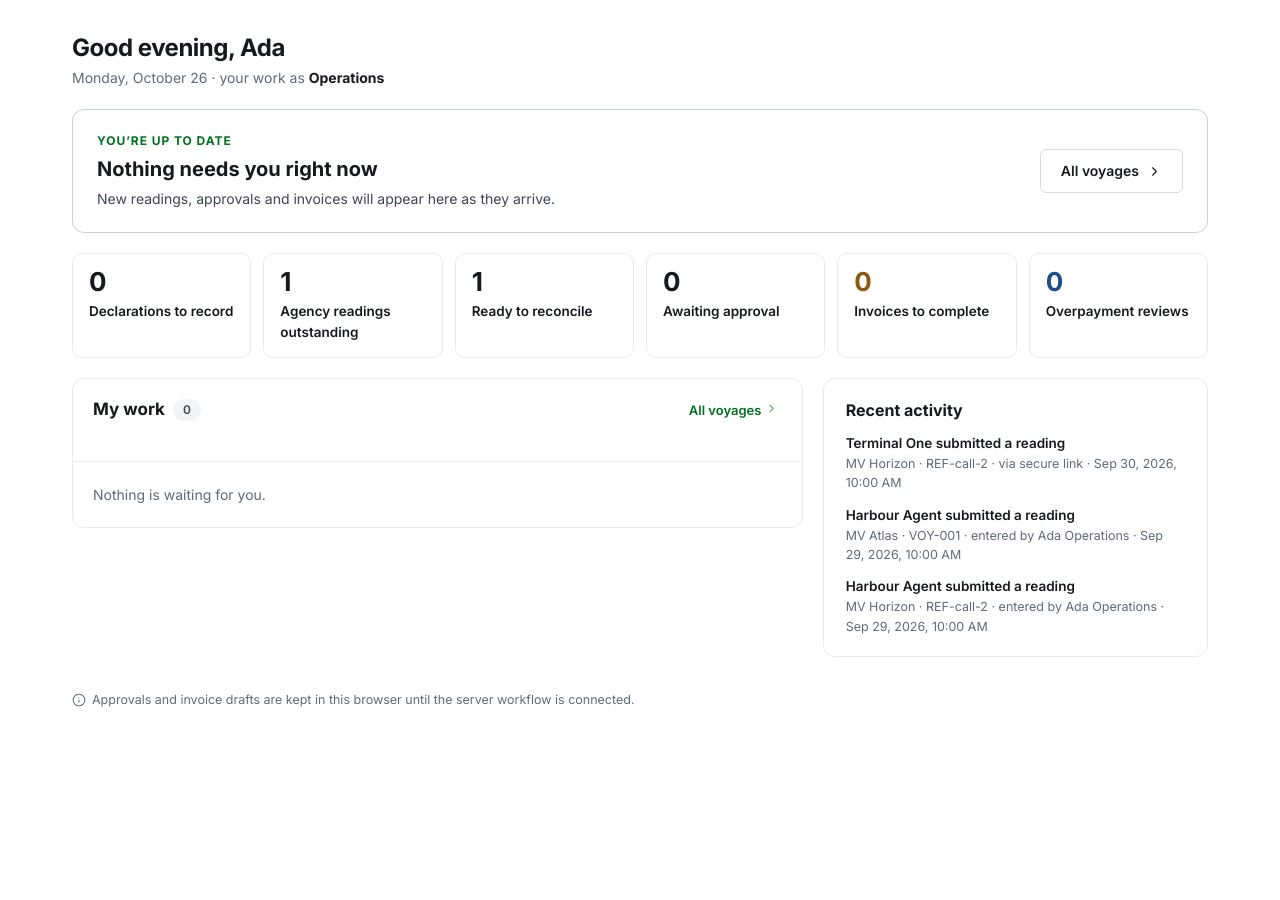
Scenario: action-focused dashboard › counts voyages at each step and filters the list from a tile
The image size is (1280, 900).
Expected: the element named "Voyages at each step" is shown, [72, 253, 1208, 358]
Expected: the button "1 Agency readings outstanding" is shown, [263, 253, 443, 358]
Step 1. Click the button "1 Ready to reconcile" → (544, 305), box [455, 253, 634, 358]
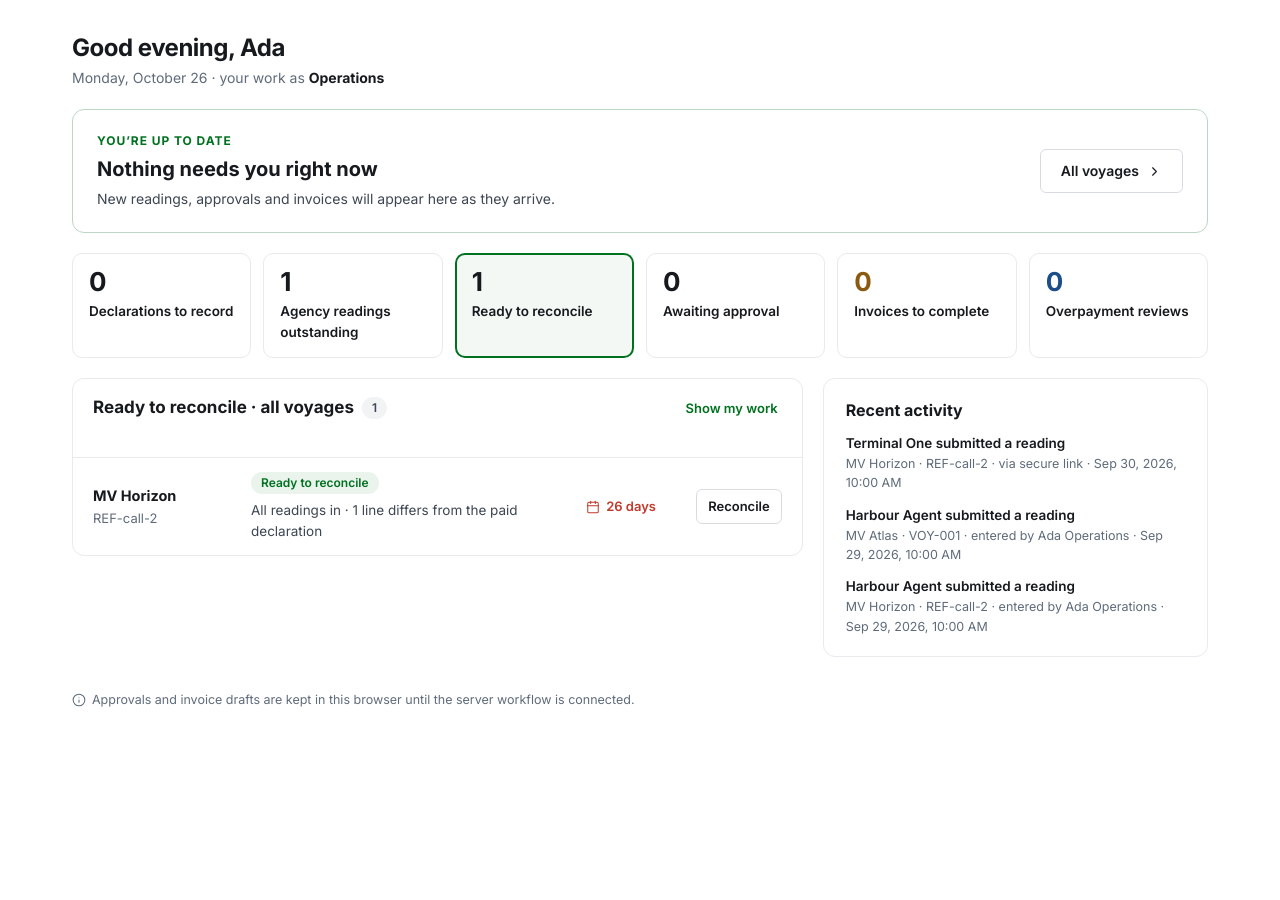
Expected: the heading "Ready to reconcile · all voyages 1" is shown, [93, 396, 387, 420]
Step 2. Click the button "0 Awaiting approval" → (736, 305), box [646, 253, 825, 358]
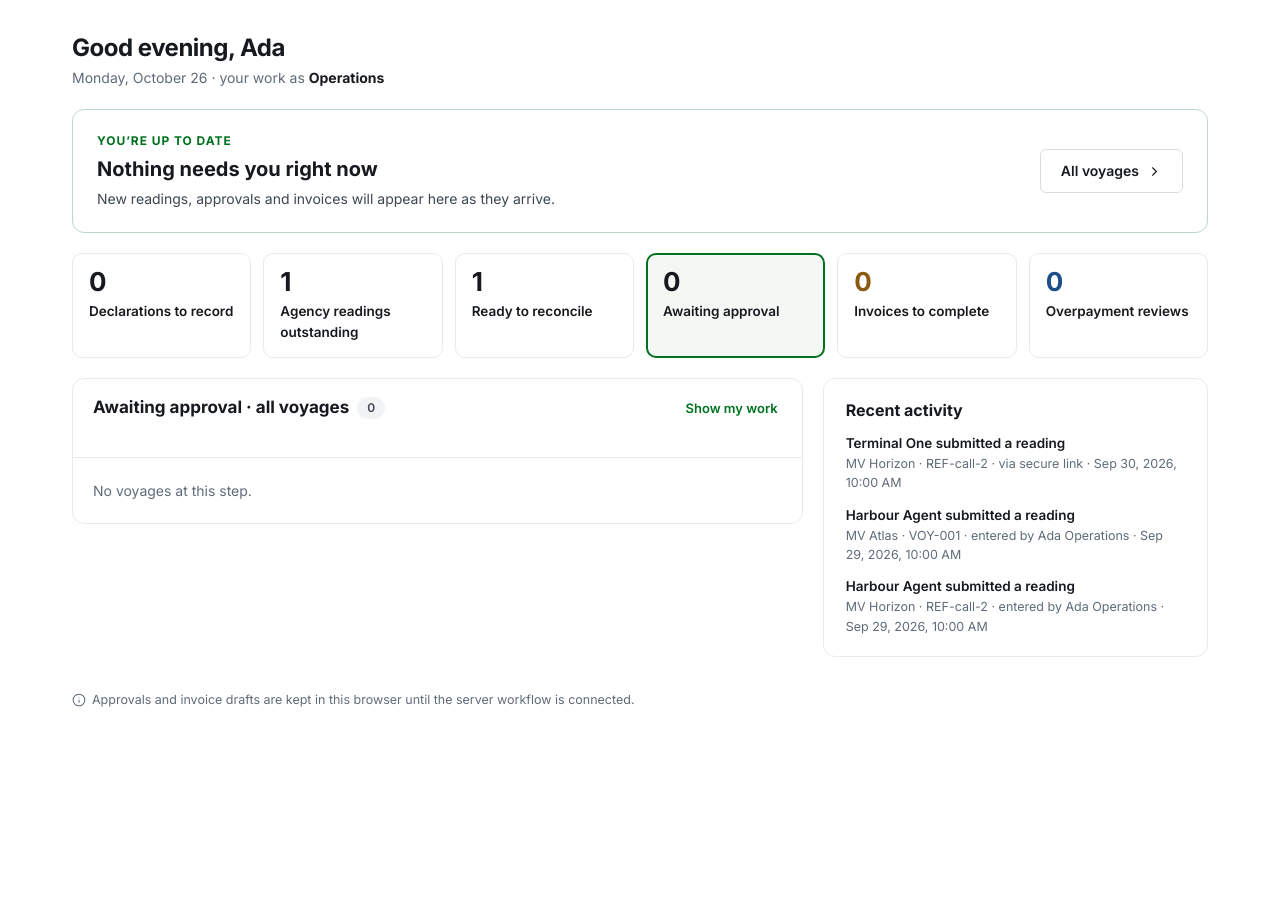
Expected: the text "No voyages at this step." is shown, [73, 457, 802, 523]
Step 3. Click the button "Show my work" → (732, 408), box [682, 395, 782, 421]
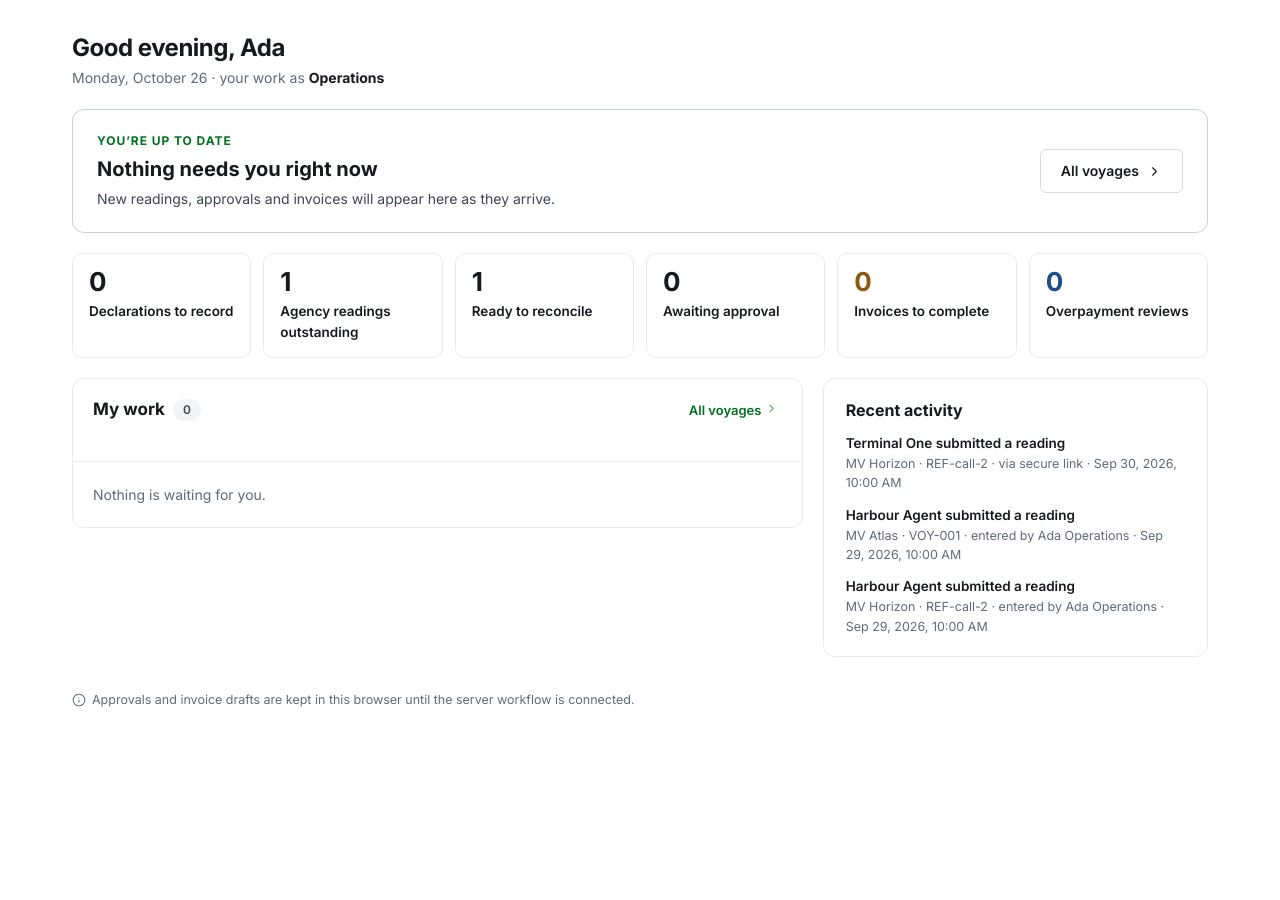
Expected: the heading "My work 0" is shown, [93, 398, 201, 422]
